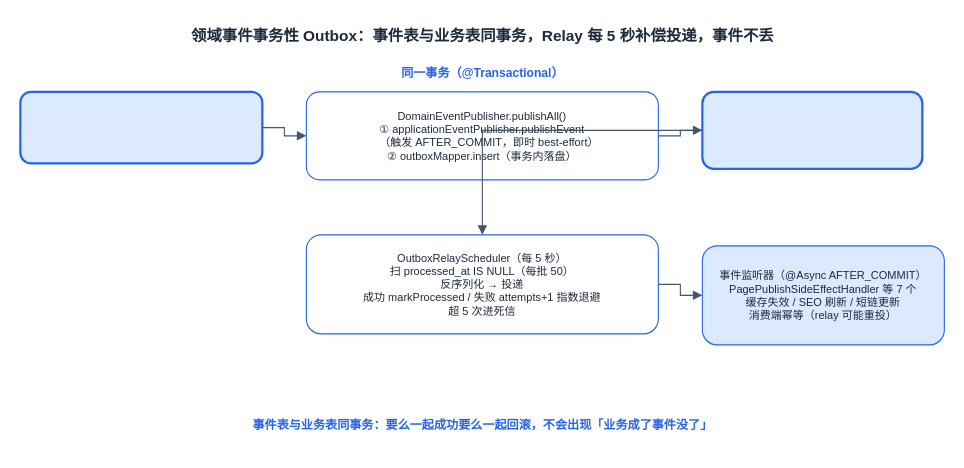
Image size: 964x468. Some labels were removed from this diagram. The shapes that lost their labels are listed below. From the top down, each one's centre as x and y in pixels, then its label:
the point at 141,127: 聚合根 publish() 改状态 + 审计字段 events.add(PagePublishedEvent)
the point at 812,129: 数据库 domain_outbox 表 processed_at IS NULL
